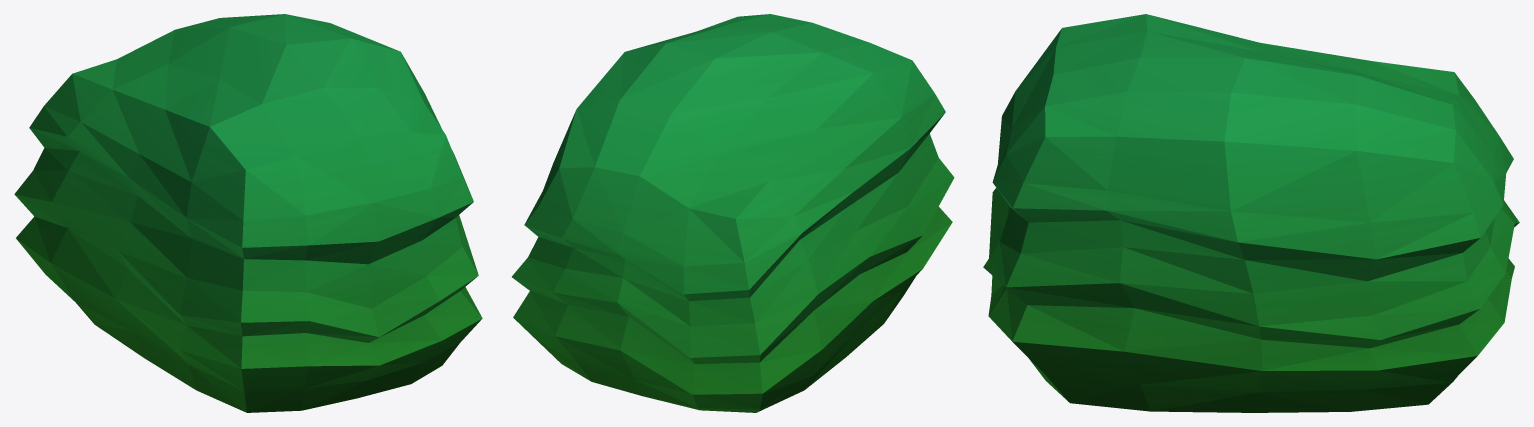
Rendered from bush_round.glb.
The picture shows the model from 3 angles, left to right: view 1: azimuth 30°, elevation 25°; view 2: azimuth 150°, elevation 25°; view 3: azimuth 270°, elevation 25°; orthographic projection. The views are drawn at different scales.
Parts seen in each view (by area): view 1: bush_round; view 2: bush_round; view 3: bush_round.
Boxes of the visible parts, <box> form: bush_round: <box>14,14,482,412</box>; bush_round: <box>512,14,954,412</box>; bush_round: <box>983,14,1519,412</box>.
Size of the model in its own units: 1.07 by 0.9 by 1.44.
Materials: 1 (1 with a texture image).
